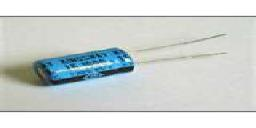Electrolytic Capacitor: (25, 26, 255, 87)
